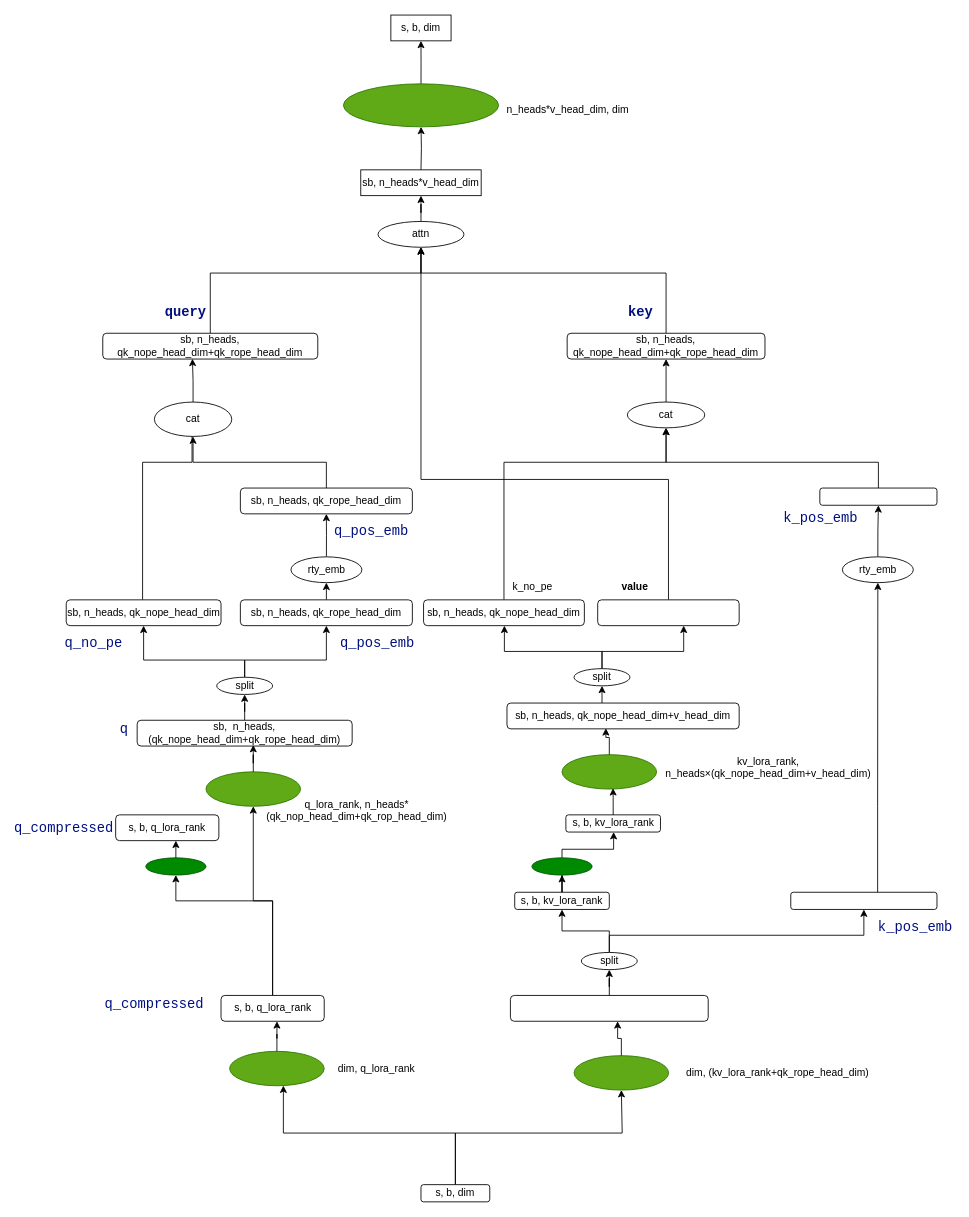
Image size: 969x1217. Some labels were removed from this diagram. Each missing label, with the centre of its shape:
kv_down_proj (ColumnParallel): point (621, 1072)
kv_norm: point (561, 866)
kv_up_proj (ColumnParallel): point (609, 771)
linear_proj (RowParallel): point (421, 105)
q_down_proj (ColumnParallel): point (276, 1068)
q_norm: point (175, 866)
q_up_proj (ColumnParallel): point (253, 788)
s, b, (kv_lora_rank+qk_rope_head_dim): point (609, 1008)
s, b, qk_rope_head_dim: point (863, 900)
s, b, rope_head_dim: point (878, 496)
sb, n_heads, v_head_dim: point (668, 612)
